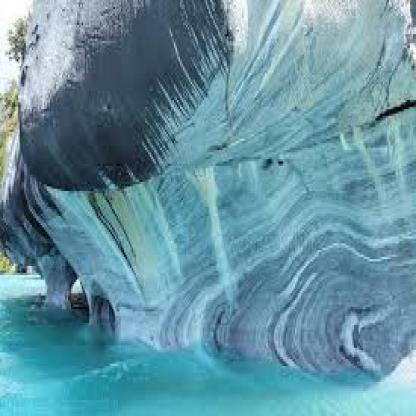Metamorphic_Marble: (5, 5, 414, 380)
